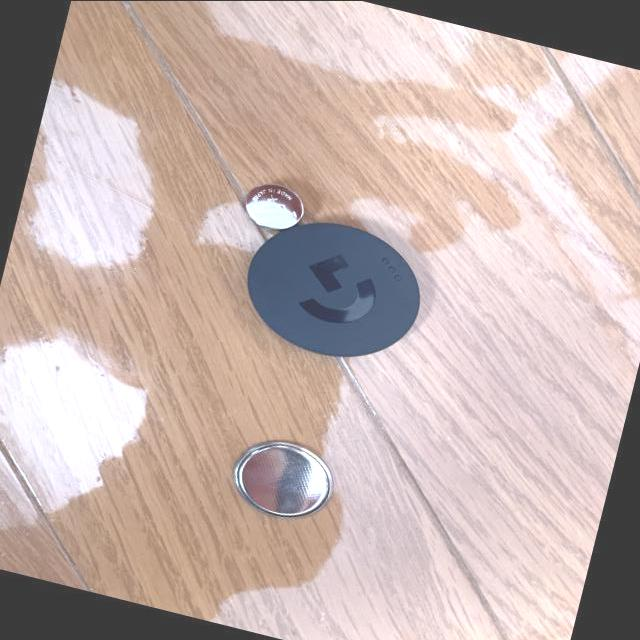COIN: (223, 431, 340, 528), (239, 178, 307, 236)
